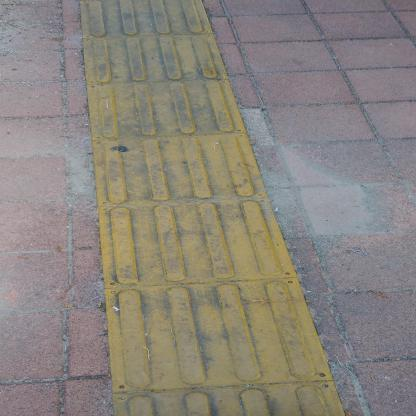podotacti: (72, 0, 355, 415)
